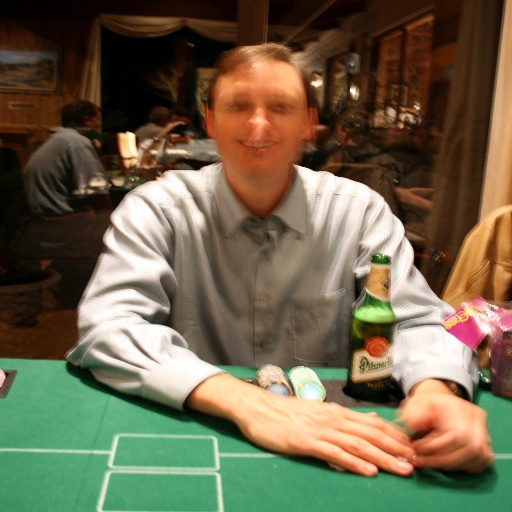hand: (188, 373, 431, 469), (396, 388, 499, 476), (393, 186, 415, 202), (165, 119, 188, 131), (408, 188, 429, 197)
